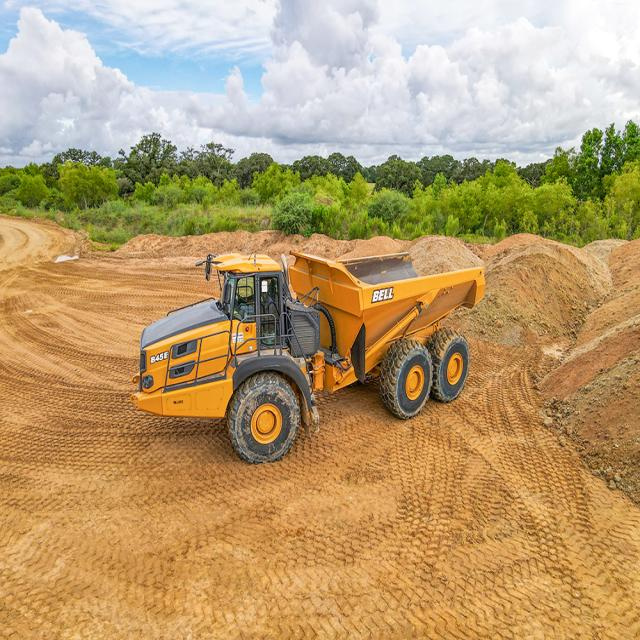dump_truck: (124, 216, 502, 495)
